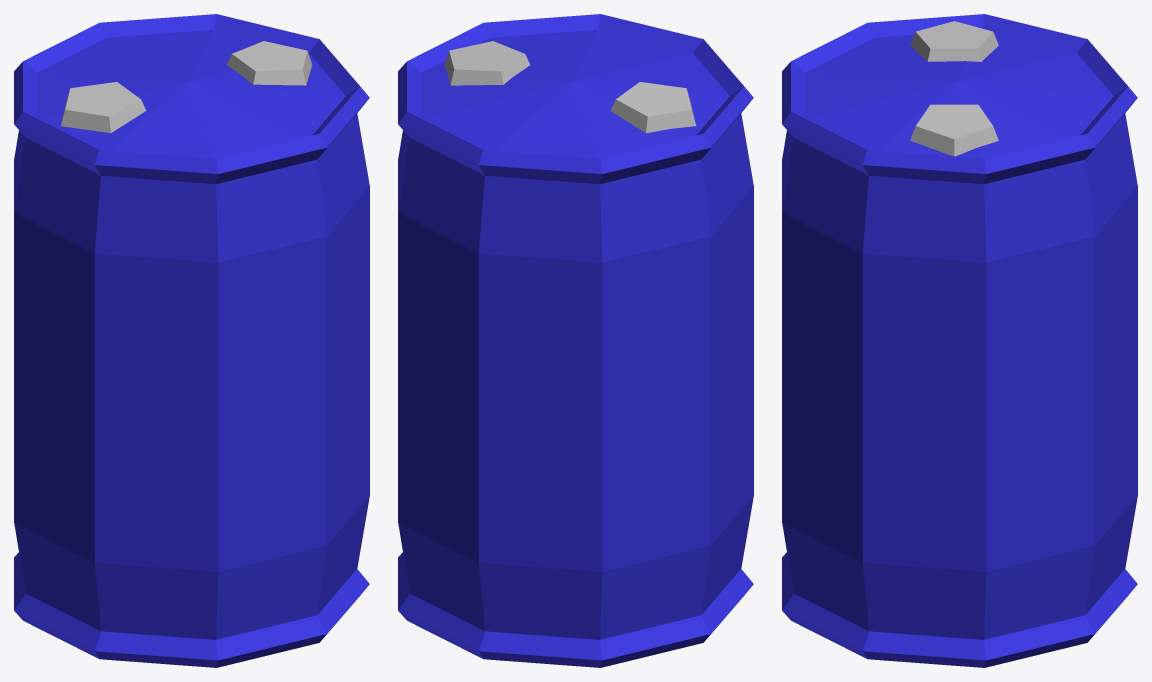
Rendered from active.Barrel-04.glb.
3 renders of one model, left to right at view 1: azimuth 30°, elevation 25°; view 2: azimuth 150°, elevation 25°; view 3: azimuth 270°, elevation 25°, orthographic.
Visible parts, largest first — view 1: active.Barrel 04; view 2: active.Barrel 04; view 3: active.Barrel 04.
Boxes of the visible parts, box(x1,y1,x2,y2) form: active.Barrel 04: box(14, 14, 369, 667); active.Barrel 04: box(398, 14, 753, 667); active.Barrel 04: box(782, 14, 1137, 667).
Size of the model in its own units: 0.5816 by 0.9217 by 0.5727.
